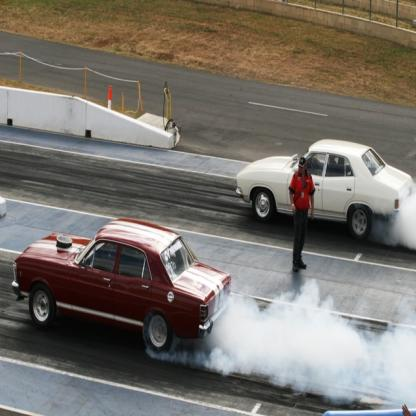Car: (12, 218, 233, 357), (237, 138, 414, 243)
